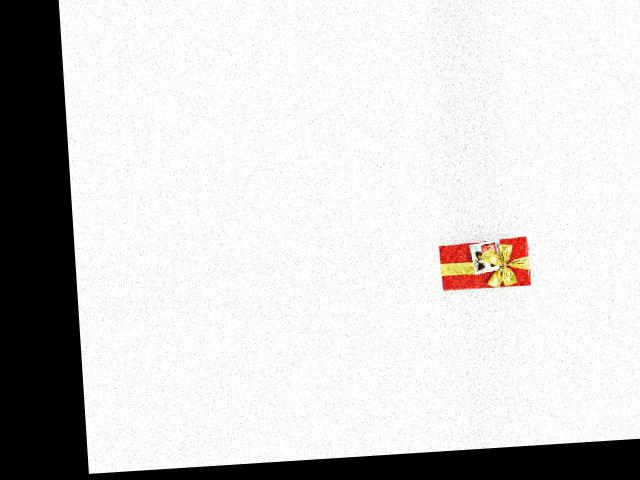chocolate: (439, 236, 534, 295)
